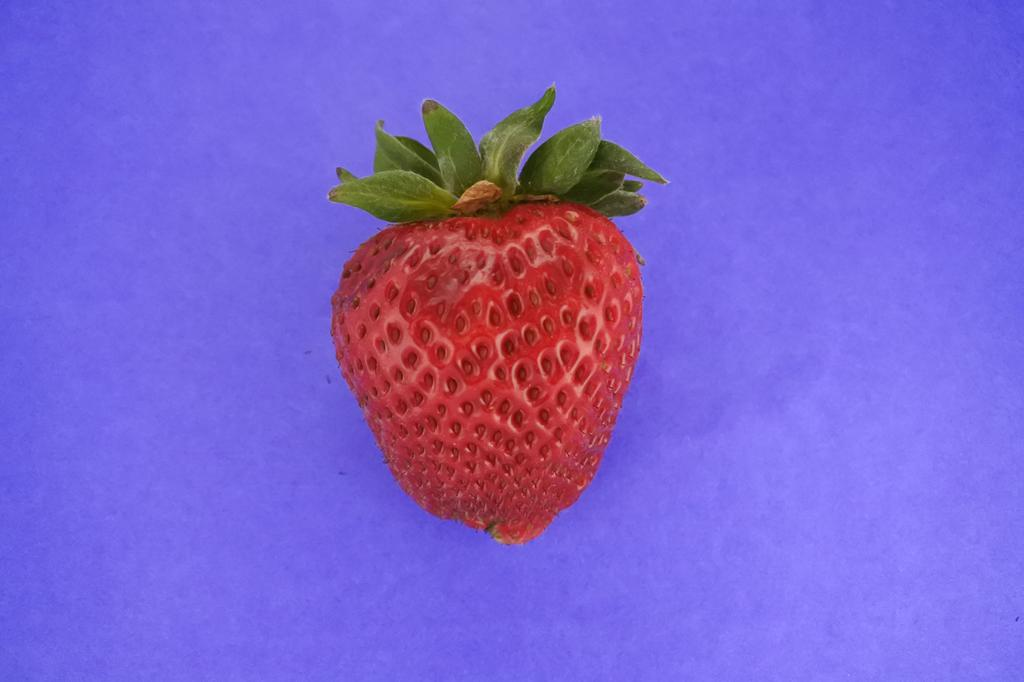red strawberry: (326, 85, 651, 545)
